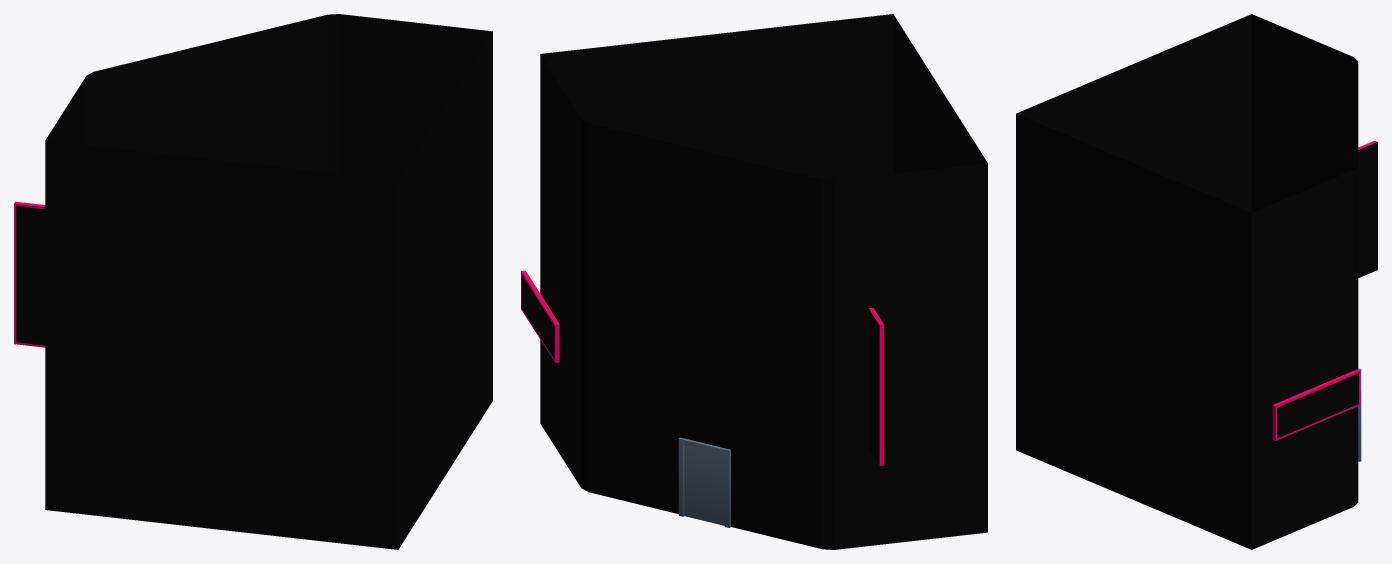
The model's file is Comercio_Edificio_Esquina_02.FBX.
3 renders of one model, left to right at view 1: azimuth 30°, elevation 25°; view 2: azimuth 150°, elevation 25°; view 3: azimuth 270°, elevation 25°, orthographic. The views are drawn at different scales.
Visible parts, largest first — view 1: Comercio_Edificio_Esquina_02; view 2: Comercio_Edificio_Esquina_02; view 3: Comercio_Edificio_Esquina_02.
Boxes of the visible parts, x1,y1,x2,y2 form: Comercio_Edificio_Esquina_02: (14, 14, 492, 549); Comercio_Edificio_Esquina_02: (521, 14, 987, 549); Comercio_Edificio_Esquina_02: (1016, 14, 1377, 549).
Size of the model in its own units: 1648 by 1248 by 1282.
